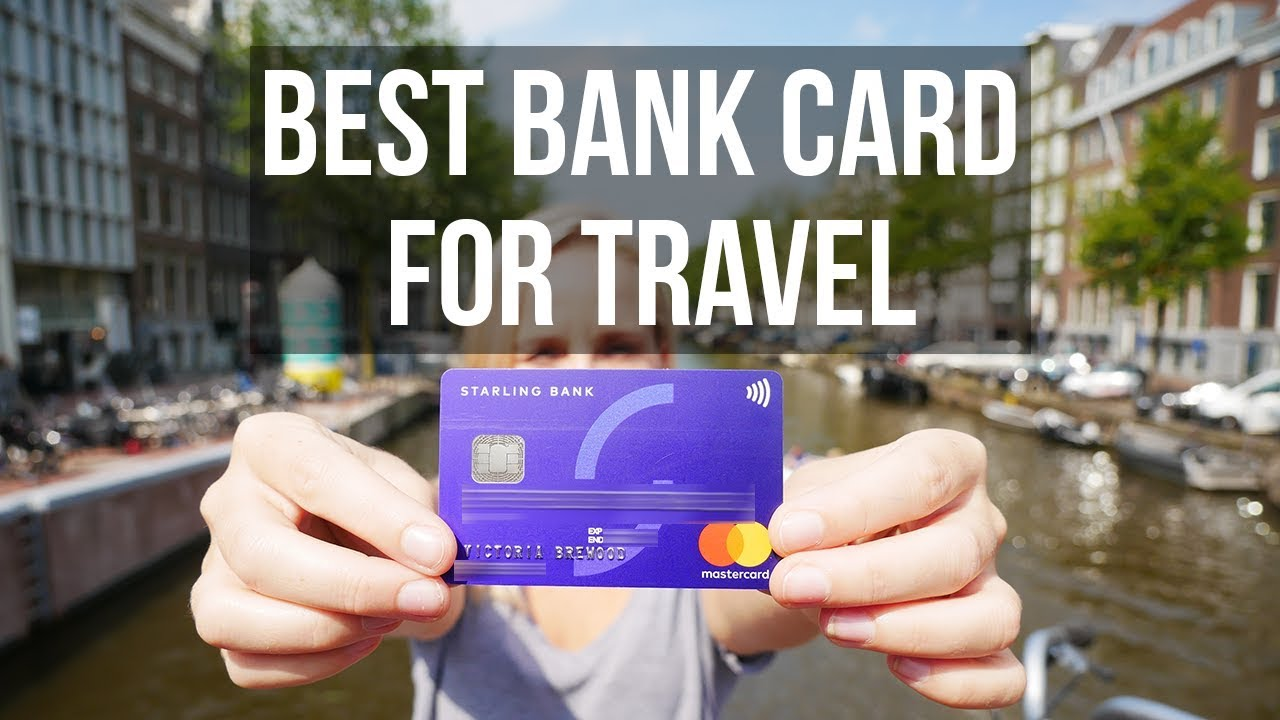tarjeta: (438, 366, 788, 592)
